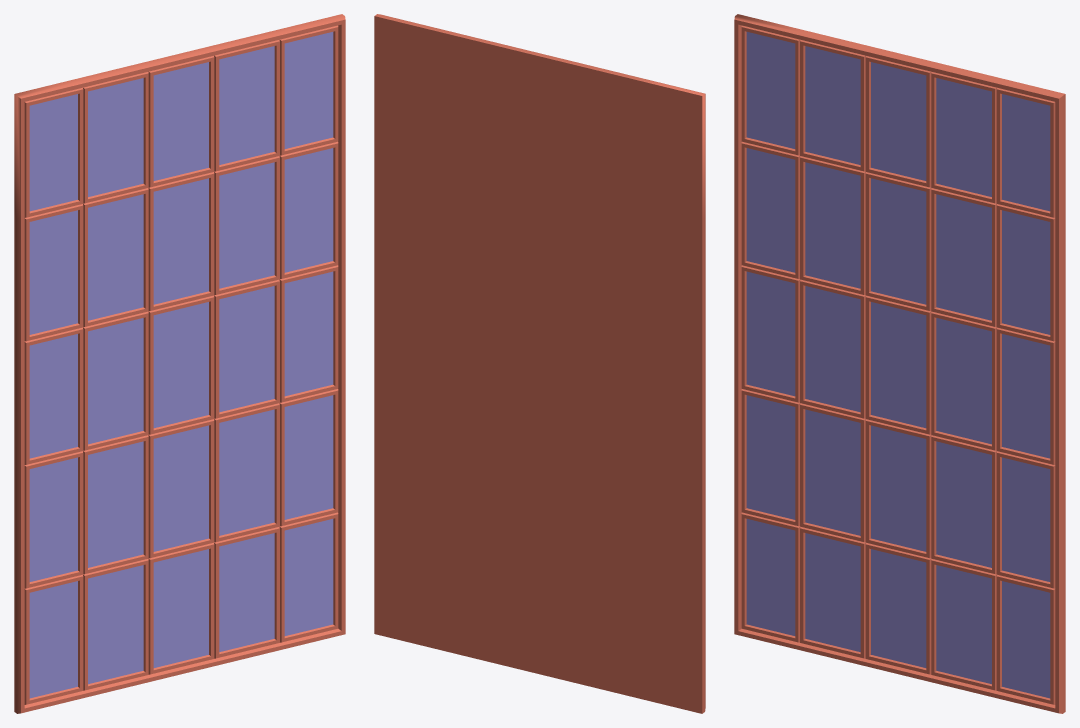
File: SP_House06_Window02.fbx
3 renders of one model, left to right at view 1: azimuth 30°, elevation 25°; view 2: azimuth 150°, elevation 25°; view 3: azimuth 330°, elevation 25°, orthographic.
Parts seen in each view (by area): view 1: SP_House06_Window02; view 2: SP_House06_Window02; view 3: SP_House06_Window02.
Part boxes in pixels (x1,y1,x2,y2): SP_House06_Window02: (14, 14, 345, 713); SP_House06_Window02: (374, 14, 705, 713); SP_House06_Window02: (734, 14, 1065, 713).
Size of the model in its own units: 2.35 by 4.23 by 0.0603.
